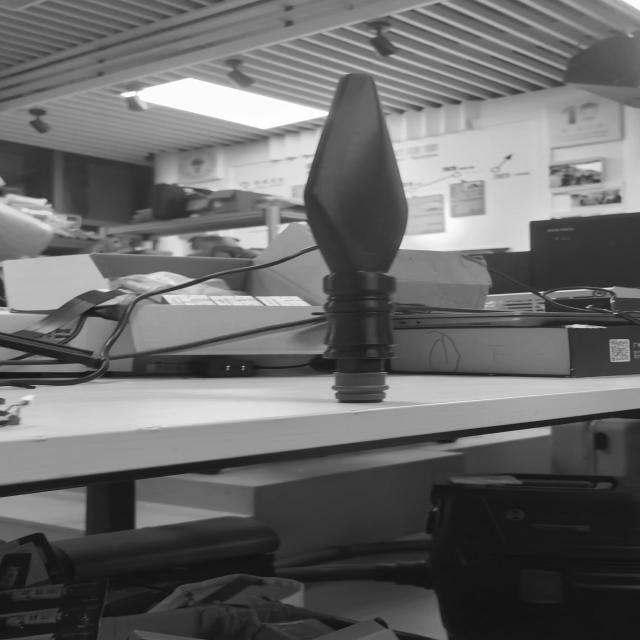base: (334, 367, 389, 407)
